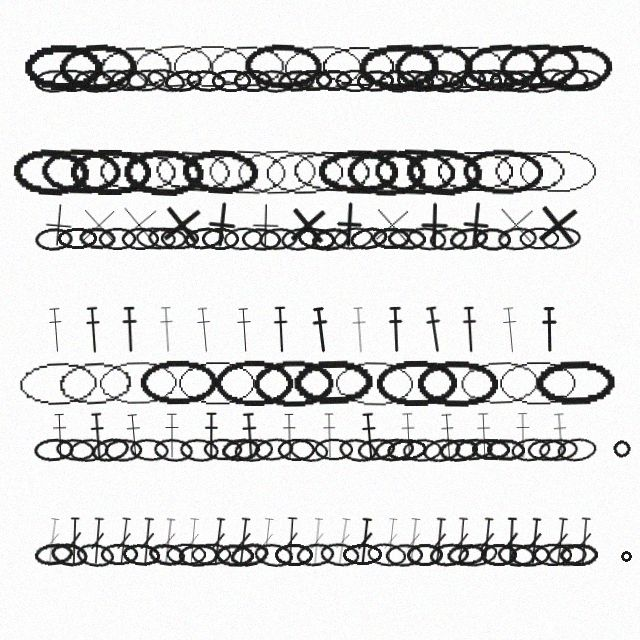chain: (131, 41, 214, 92), (57, 41, 139, 92), (462, 41, 544, 92), (151, 146, 233, 197), (373, 147, 456, 197), (16, 358, 99, 408), (11, 146, 92, 197), (404, 146, 485, 197), (55, 357, 136, 408), (235, 147, 319, 196), (533, 42, 615, 92), (122, 147, 204, 197), (458, 358, 540, 408), (206, 147, 289, 196), (180, 147, 261, 197), (357, 42, 439, 91), (290, 147, 372, 196), (333, 359, 416, 407), (207, 42, 288, 91), (243, 42, 324, 91), (498, 42, 579, 91), (40, 147, 121, 196), (292, 358, 373, 407), (96, 148, 178, 196), (263, 148, 345, 196), (253, 359, 335, 407), (416, 359, 498, 407), (393, 42, 473, 91), (282, 43, 363, 91), (317, 148, 398, 196), (346, 148, 427, 196), (462, 148, 543, 196), (97, 359, 178, 407), (534, 359, 615, 407), (171, 43, 253, 90), (69, 148, 151, 195), (517, 148, 599, 195), (176, 359, 258, 406), (375, 359, 457, 406), (96, 43, 176, 91), (434, 148, 515, 195), (214, 359, 295, 406), (428, 43, 508, 90), (139, 359, 219, 406), (497, 359, 577, 406), (23, 43, 102, 90), (319, 43, 398, 90), (491, 148, 569, 195), (526, 64, 570, 97), (144, 65, 188, 96), (89, 434, 132, 465), (456, 540, 499, 570), (421, 435, 463, 465), (348, 224, 390, 253), (228, 540, 270, 569), (49, 540, 90, 569), (163, 67, 204, 95), (296, 225, 337, 253), (310, 225, 351, 253), (448, 225, 489, 253), (288, 436, 329, 464), (337, 436, 378, 464), (253, 541, 294, 569), (476, 67, 518, 94), (183, 225, 225, 252), (332, 225, 374, 252), (406, 225, 448, 252), (253, 436, 295, 463), (373, 436, 415, 463), (510, 436, 552, 463), (556, 436, 598, 463), (319, 541, 361, 568), (428, 541, 470, 568), (410, 67, 450, 95), (75, 541, 115, 569), (147, 541, 187, 569), (447, 67, 488, 94), (428, 225, 469, 252), (220, 436, 261, 463), (356, 436, 397, 463), (33, 541, 74, 568), (295, 541, 336, 568), (366, 541, 407, 568), (68, 437, 110, 463), (73, 68, 114, 94), (185, 68, 226, 94), (395, 68, 436, 94), (258, 226, 299, 252), (55, 437, 96, 463), (153, 437, 194, 463), (233, 437, 274, 463), (386, 437, 427, 463), (438, 437, 479, 463), (538, 437, 579, 463), (121, 542, 162, 568), (496, 542, 537, 568), (424, 68, 464, 94), (280, 226, 320, 252), (129, 437, 169, 463), (179, 437, 219, 463), (446, 542, 486, 568), (135, 226, 176, 251), (147, 226, 188, 251), (497, 226, 538, 251), (541, 226, 582, 251), (33, 437, 74, 462), (254, 68, 293, 94), (126, 68, 166, 93), (549, 68, 589, 93), (223, 226, 263, 251), (454, 437, 494, 462), (92, 68, 131, 93), (78, 226, 117, 251), (34, 69, 74, 93), (378, 69, 418, 93), (489, 69, 529, 93), (503, 69, 543, 93), (34, 227, 74, 251), (241, 227, 281, 251), (402, 438, 442, 462), (178, 543, 218, 567), (510, 543, 550, 567), (547, 543, 587, 567), (277, 69, 316, 93), (356, 69, 395, 93), (387, 227, 426, 251), (104, 438, 143, 462), (486, 438, 525, 462), (527, 438, 566, 462), (215, 543, 254, 567), (211, 69, 251, 92), (335, 69, 375, 92), (462, 69, 502, 92), (57, 227, 97, 250), (519, 227, 559, 250), (203, 438, 243, 461), (166, 543, 206, 566), (191, 543, 231, 566), (342, 543, 382, 566), (474, 227, 512, 251), (385, 543, 423, 567), (52, 69, 91, 92), (110, 69, 149, 92), (233, 69, 272, 92), (293, 69, 332, 92), (563, 69, 602, 92), (98, 227, 137, 250), (160, 227, 199, 250), (201, 227, 240, 250), (371, 227, 410, 250), (314, 438, 353, 461), (471, 438, 510, 461), (100, 543, 139, 566), (274, 543, 313, 566), (533, 543, 572, 566), (559, 543, 598, 566), (315, 69, 353, 92), (121, 227, 159, 250), (277, 438, 315, 461), (406, 543, 444, 566), (480, 543, 518, 566)
double: (332, 517, 354, 565), (42, 517, 63, 565), (158, 517, 179, 565), (233, 517, 254, 565), (256, 517, 277, 565), (380, 517, 401, 565), (403, 517, 424, 565), (550, 517, 571, 565), (114, 517, 134, 565), (137, 517, 157, 565), (208, 517, 228, 565), (307, 517, 327, 565), (355, 517, 375, 565), (429, 517, 449, 565), (477, 517, 497, 565), (88, 517, 107, 565), (183, 517, 202, 565), (452, 517, 471, 565), (525, 517, 544, 565), (575, 517, 594, 565), (282, 517, 300, 564), (502, 517, 520, 564), (66, 517, 83, 564)
half_double: (422, 305, 446, 354), (309, 306, 332, 354), (193, 306, 215, 354), (499, 306, 521, 354), (45, 306, 66, 354), (83, 306, 104, 354), (349, 306, 370, 354), (87, 412, 108, 460), (123, 412, 144, 460), (239, 412, 260, 460), (359, 412, 380, 460), (437, 412, 458, 460), (550, 412, 571, 460), (234, 306, 254, 354), (120, 306, 140, 353), (157, 306, 177, 353), (271, 306, 291, 353), (460, 306, 480, 353), (398, 412, 418, 459), (386, 306, 405, 353), (50, 412, 69, 459), (280, 412, 299, 459), (320, 412, 339, 459), (474, 412, 493, 459), (540, 306, 558, 353), (163, 412, 181, 459), (202, 412, 220, 459), (514, 412, 532, 459)
noise: (611, 438, 633, 460), (620, 550, 632, 562)
single: (113, 199, 164, 250), (156, 199, 207, 250), (196, 199, 247, 250), (450, 199, 501, 250), (532, 199, 583, 250), (33, 200, 83, 250), (283, 200, 332, 250), (325, 200, 374, 249), (367, 200, 416, 249), (491, 200, 540, 249), (241, 201, 289, 249), (410, 201, 458, 249), (75, 201, 122, 249)
